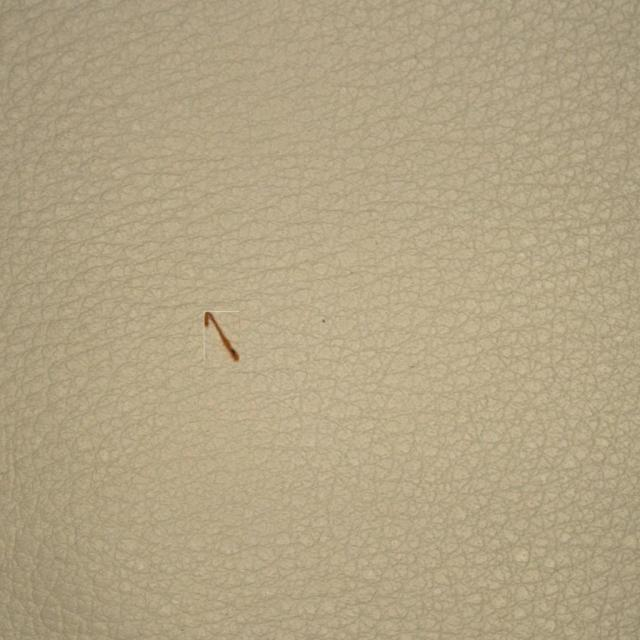Scratch: (150, 271, 296, 423)
